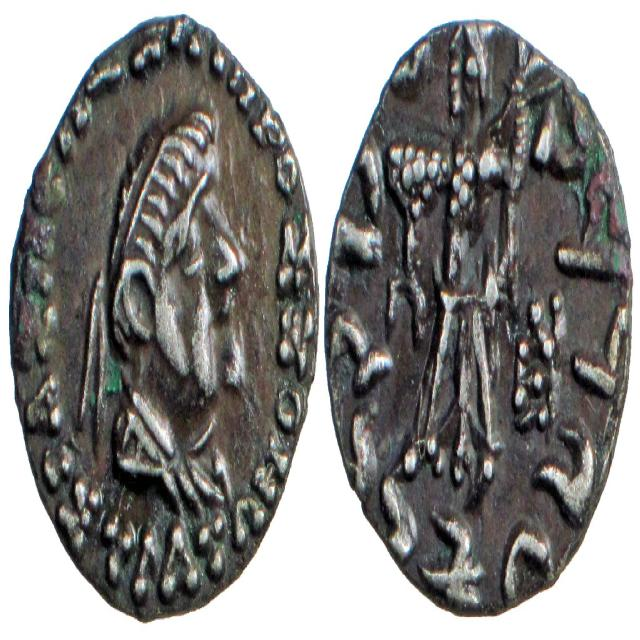Coin: (7, 12, 318, 622), (325, 17, 630, 613)
